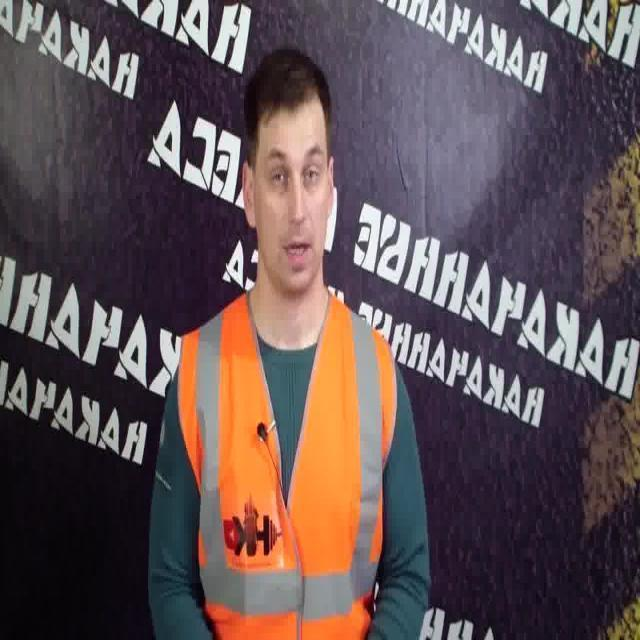safety_vest: (174, 292, 398, 640)
